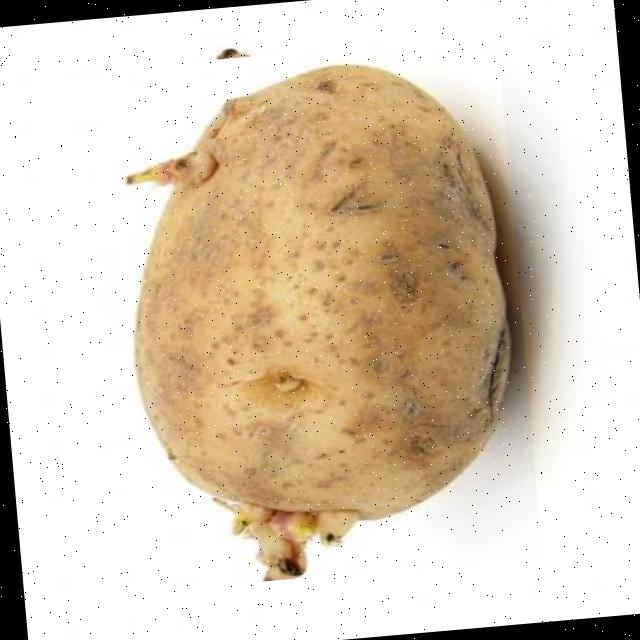Sprouted potato: (101, 34, 542, 592)
